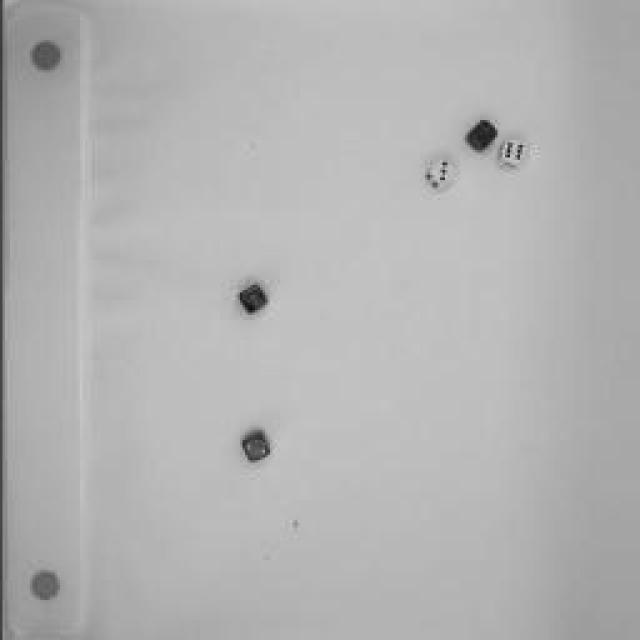dice_2: (234, 430, 271, 462), (461, 120, 499, 150)
dice_3: (425, 161, 455, 189)
dice_4: (236, 285, 266, 317)
dice_6: (496, 138, 529, 168)
